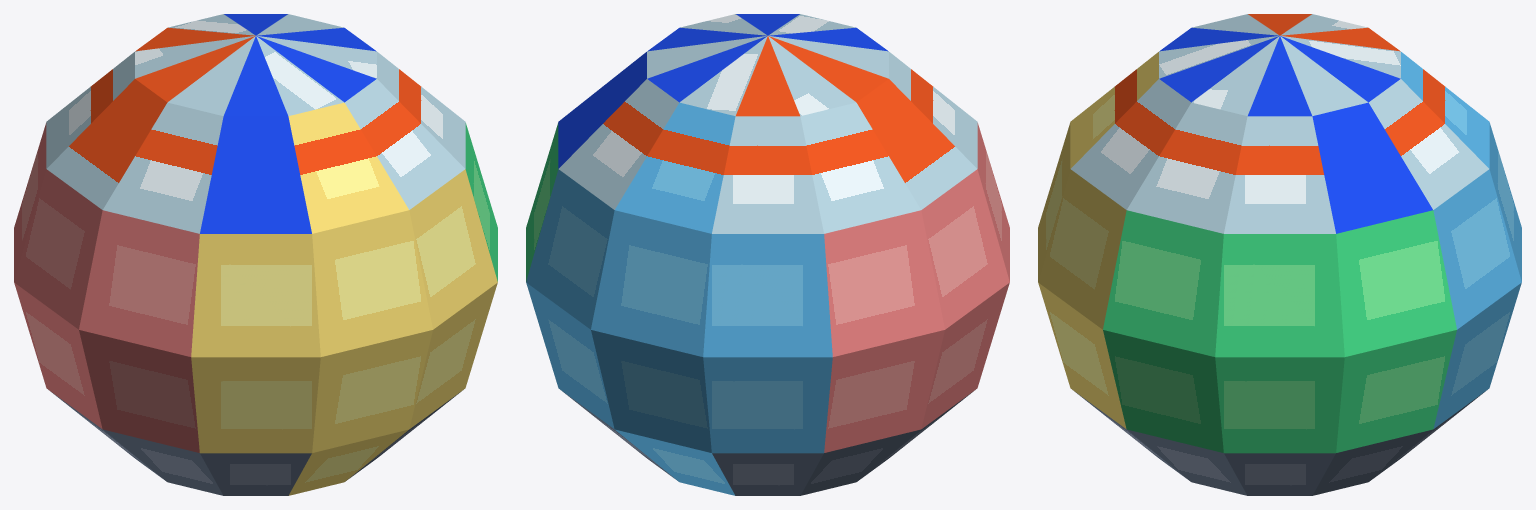
Rendered from tiger.glb.
3 renders of one model, left to right at view 1: azimuth 30°, elevation 25°; view 2: azimuth 150°, elevation 25°; view 3: azimuth 270°, elevation 25°, orthographic.
Parts seen in each view (by area): view 1: sphere; view 2: sphere; view 3: sphere.
Part boxes in pixels (x1,y1,x2,y2): sphere: (14,14,497,495); sphere: (526,14,1009,495); sphere: (1038,14,1521,495).
Size of the model in its own units: 1 by 1 by 1.
Materials: 1 (1 with a texture image).
